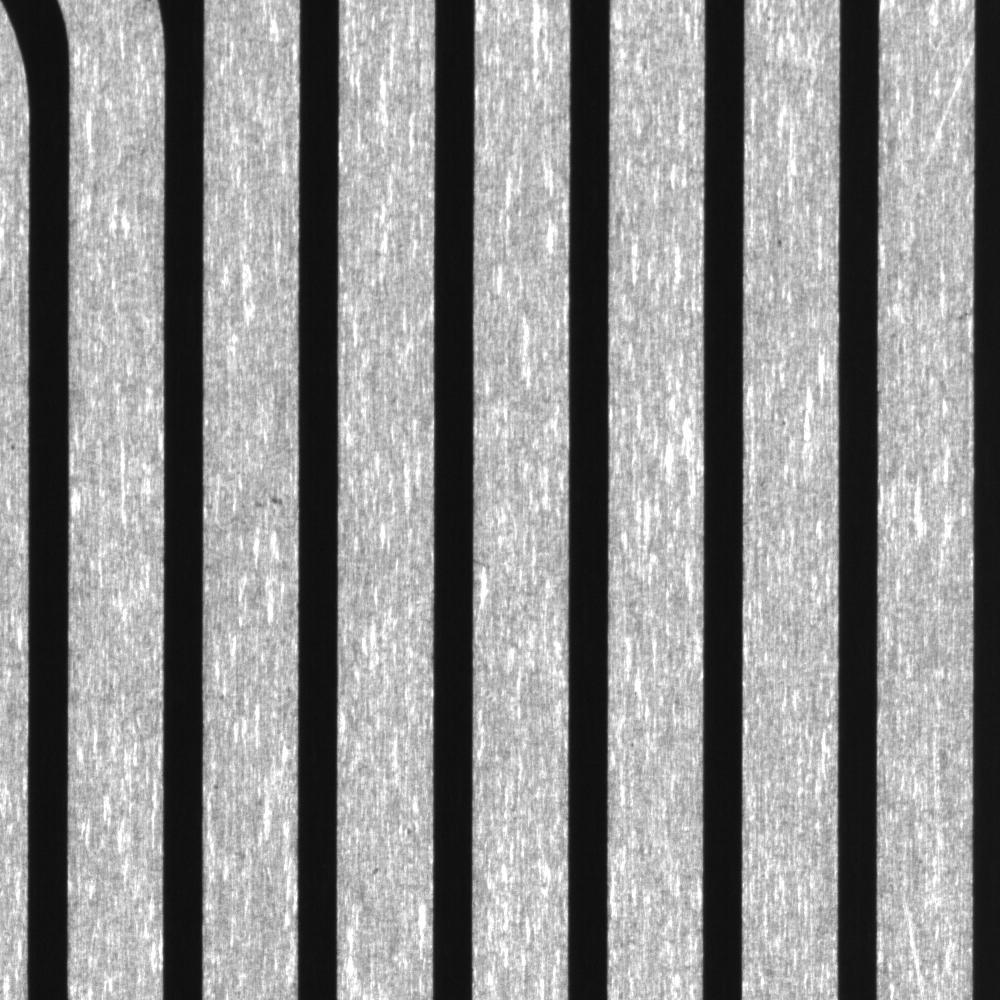Etching: (247, 488, 289, 512)
Pinhole: (769, 230, 788, 254)
